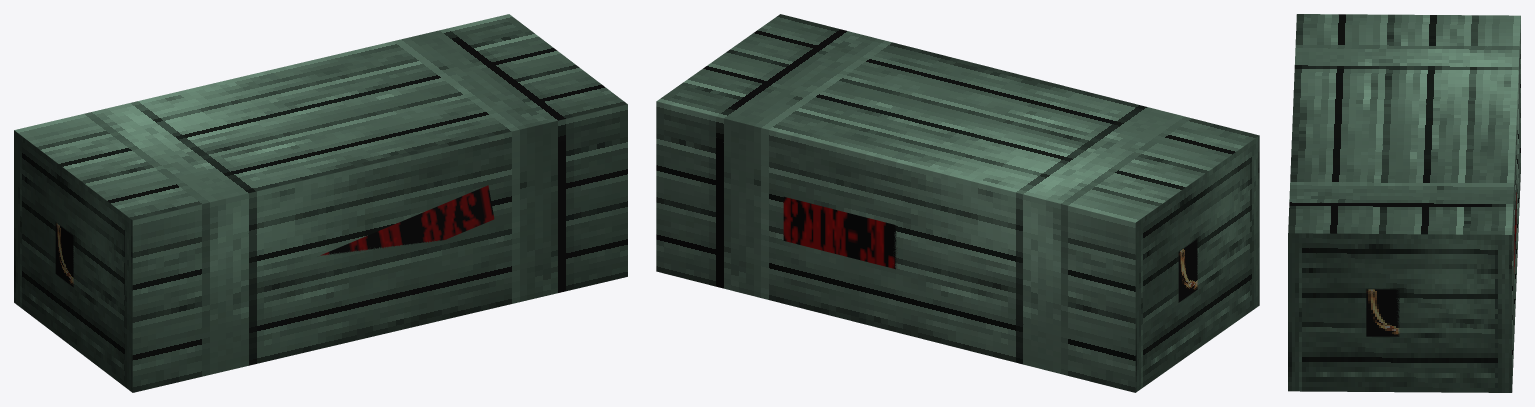
File: primary_086.glb
3 views of the same model, side by side, from view 1: azimuth 30°, elevation 25°; view 2: azimuth 150°, elevation 25°; view 3: azimuth 270°, elevation 25° (orthographic). The views are drawn at different scales.
Visible parts, largest first — view 1: Object; view 2: Object; view 3: Object.
Boxes of the visible parts, <box> form: Object: <box>14,14,627,392</box>; Object: <box>656,14,1259,392</box>; Object: <box>1288,14,1520,392</box>.
Bounding box in the file's own units: 1.38 × 0.4615 × 0.6156.
Materials: 7 (7 with a texture image).
